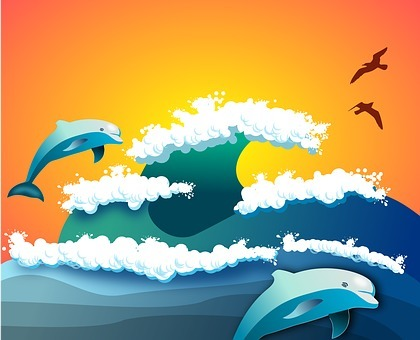bird: (346, 45, 393, 86), (347, 94, 389, 132)
